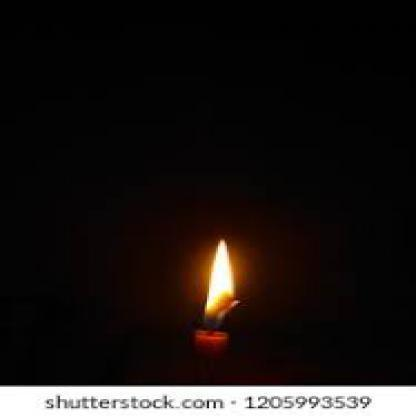Fire: (200, 236, 240, 317)
